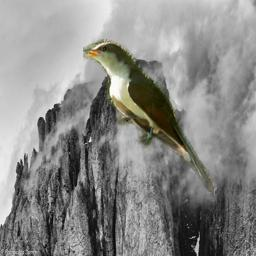Cuckoo: (83, 38, 217, 192)
